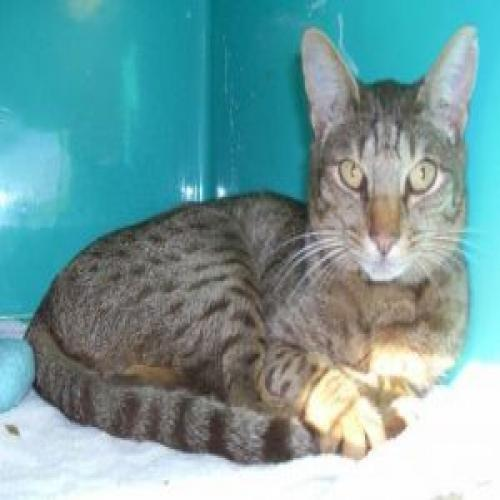bengal: (290, 7, 493, 310)
